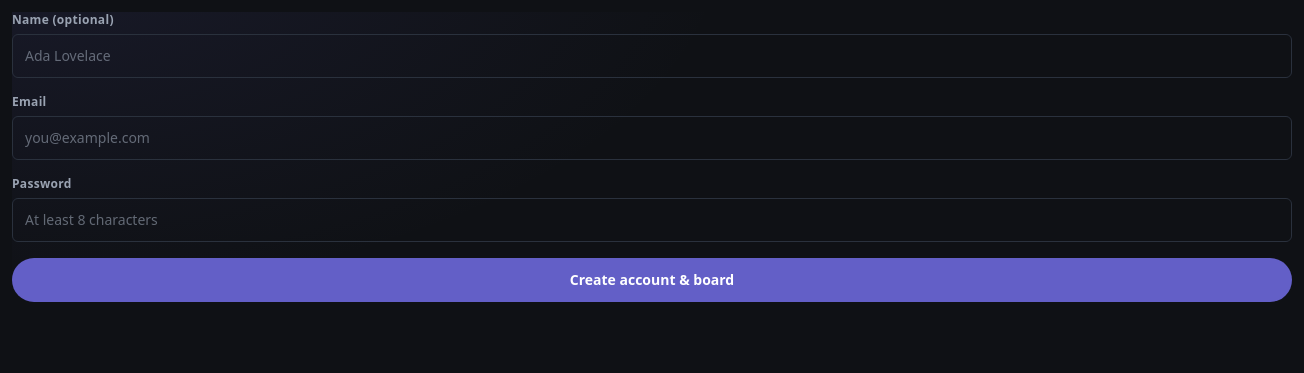
Scenario: RegisterForm › surfaces a duplicate-email conflict and does not sign in
This screenshot has width=1304, height=373.
Type "dupe@example.com" into the field labelled "Email". click: (652, 138)
box: [12,116,1292,160]
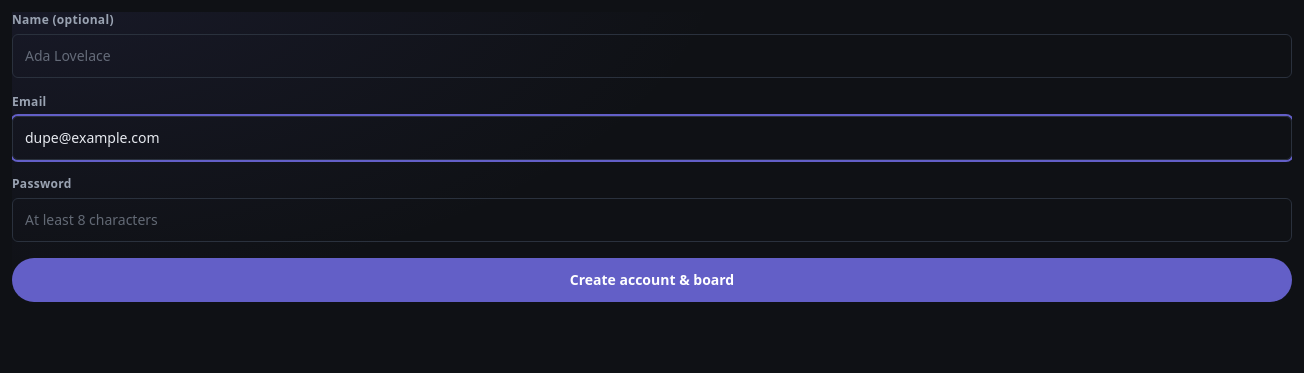
Type "supersecret" into the password field labelled "Password". click: (652, 220)
box: [12,198,1292,242]
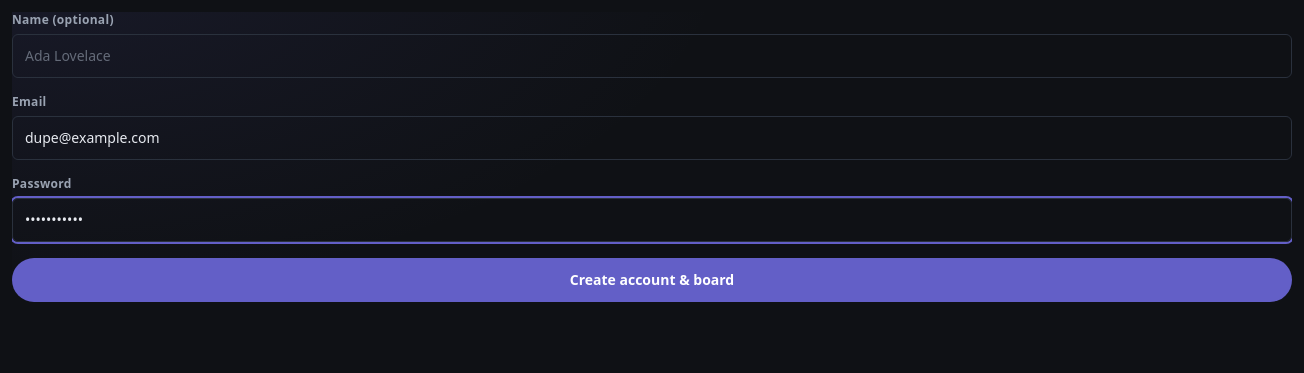
Click the button "Create account & board". click: (652, 280)
box: [12,258,1292,302]
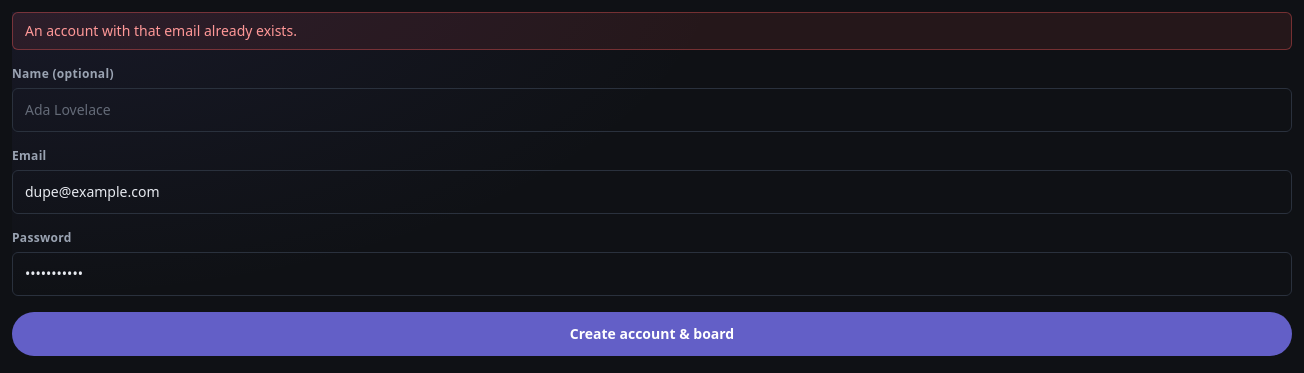
Now the message shows "already exists", box [25,21,297,40]
